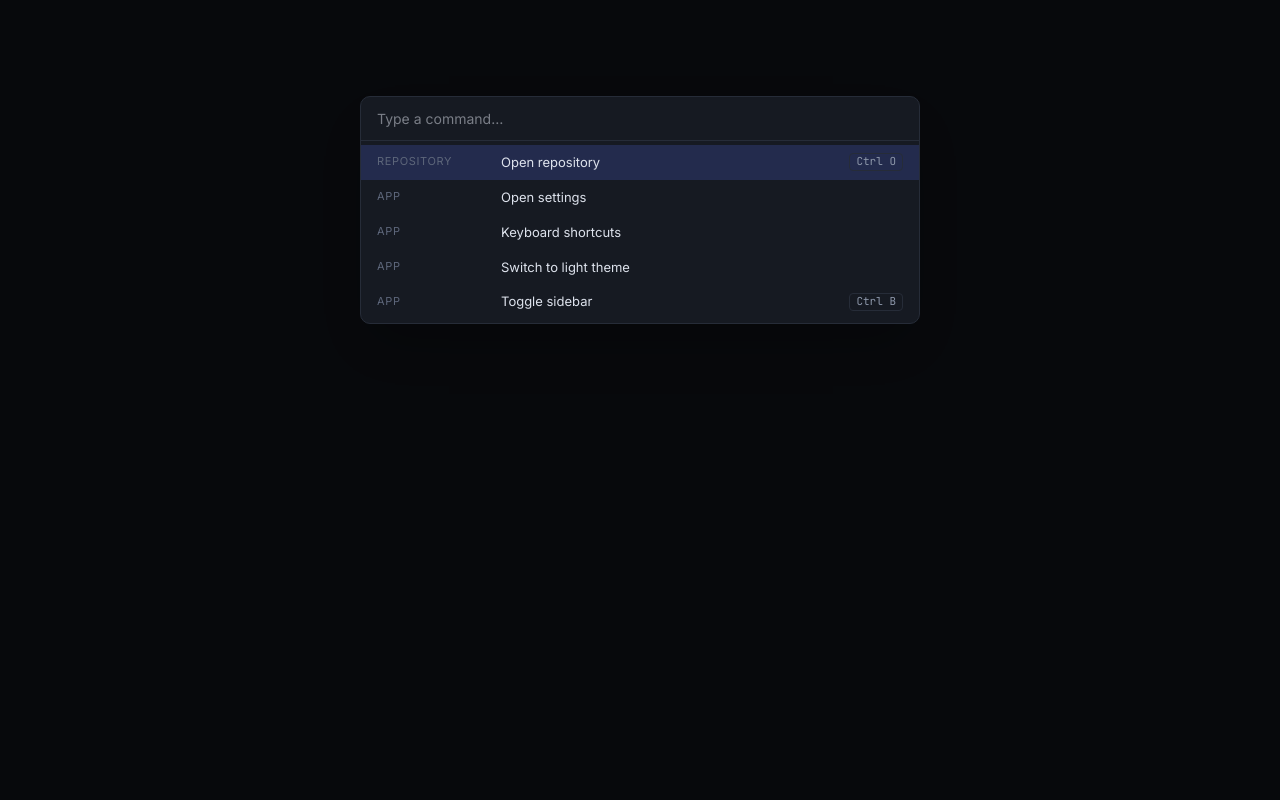
Test: palette shows nothing found message
Type "zzzzqq" into the field labelled "command" at (640, 119), box 361,97 -> 919,141
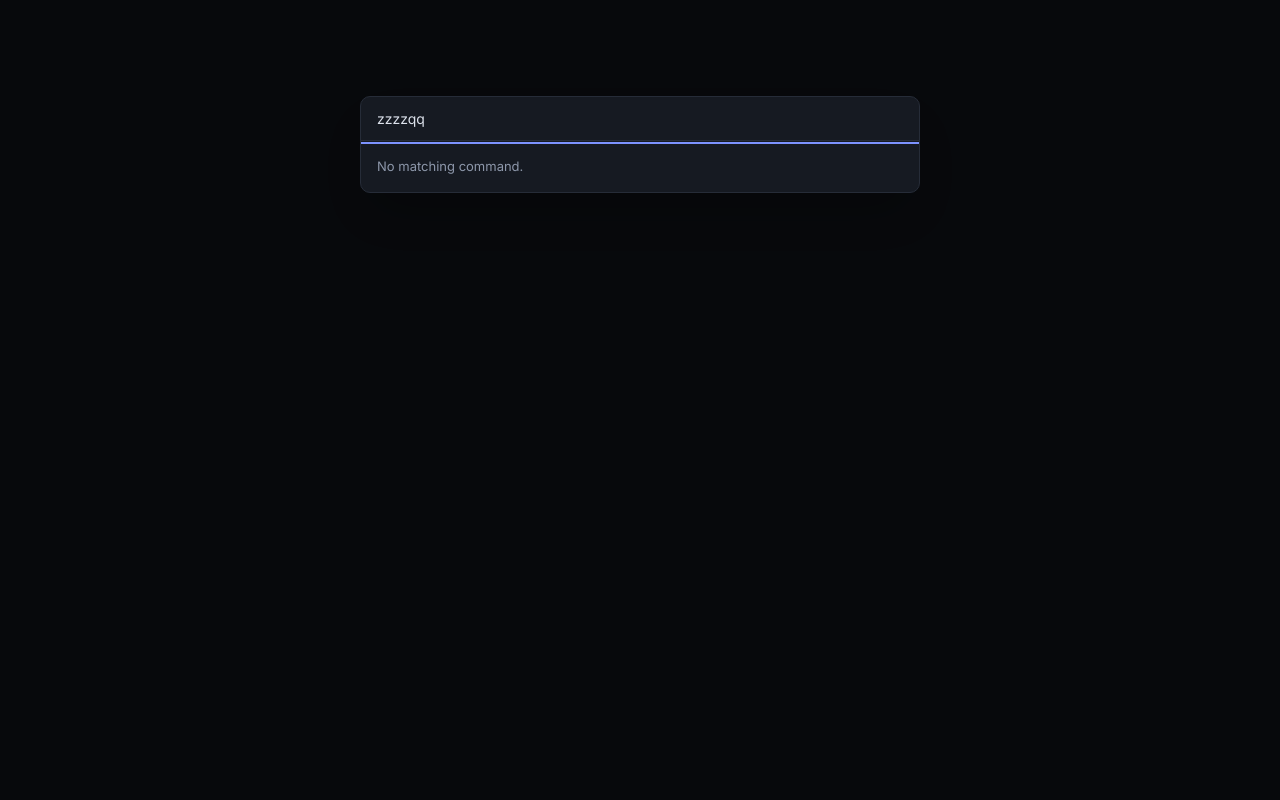
Check: the text "No matching command." is shown, box 377,158 -> 523,174
